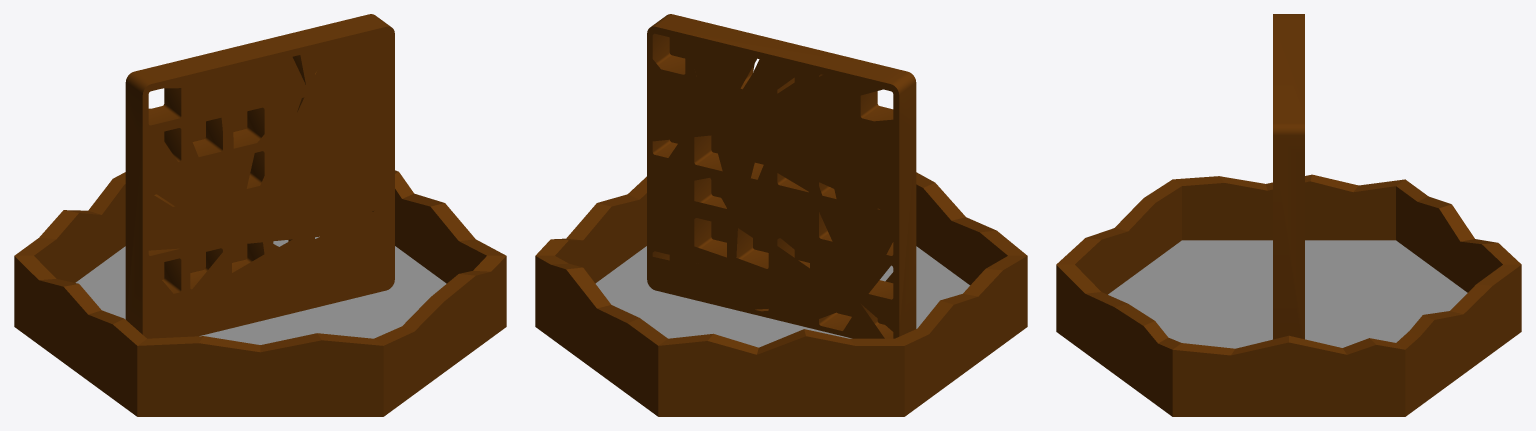
Rendered from Arena.fbx.
3 views of the same model, side by side, from view 1: azimuth 30°, elevation 25°; view 2: azimuth 150°, elevation 25°; view 3: azimuth 270°, elevation 25° (orthographic). The views are drawn at different scales.
Parts seen in each view (by area): view 1: Frame, ArenaBorder; view 2: Frame, ArenaBorder; view 3: ArenaBorder, Frame.
Boxes of the visible parts, x1,y1,x2,y2 form: Frame: (125,14,394,338); ArenaBorder: (14,170,506,416); Frame: (647,14,916,338); ArenaBorder: (535,172,1027,416); ArenaBorder: (1056,174,1521,416); Frame: (1273,14,1304,339).
Size of the model in its own units: 4.22 by 3.03 by 4.87.
